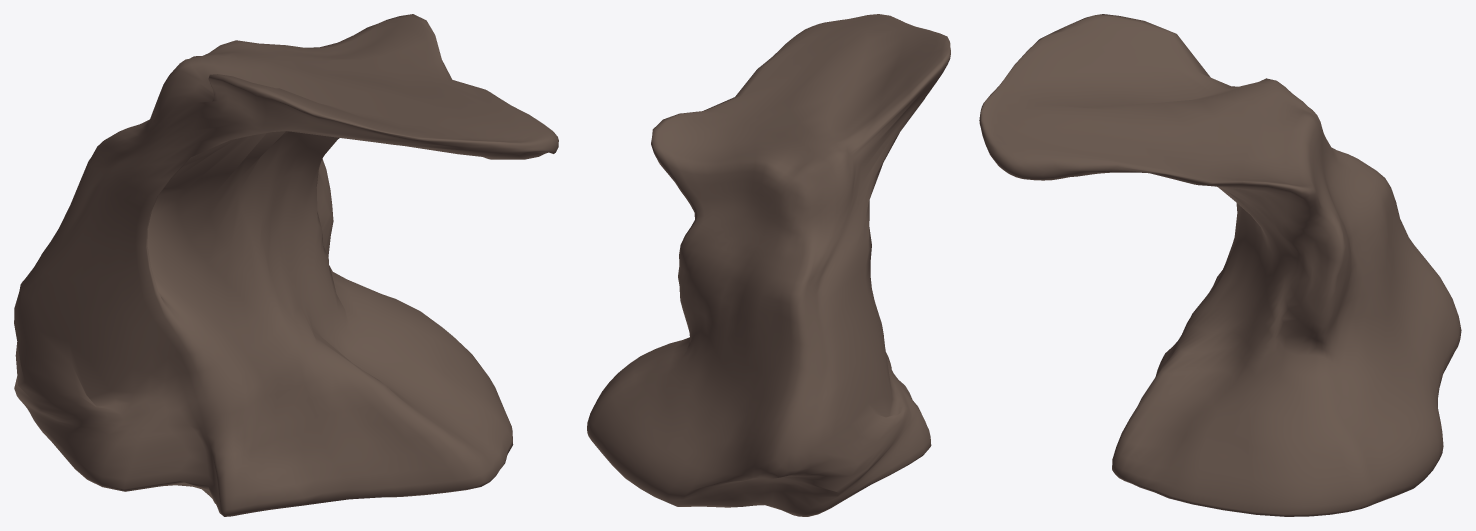
File: rock2.fbx
3 renders of one model, left to right at view 1: azimuth 30°, elevation 25°; view 2: azimuth 150°, elevation 25°; view 3: azimuth 270°, elevation 25°, orthographic. The views are drawn at different scales.
Visible parts, largest first — view 1: pCube6; view 2: pCube6; view 3: pCube6.
Part boxes in pixels (bbox=[...]): pCube6: bbox=[14, 14, 558, 516]; pCube6: bbox=[587, 14, 950, 516]; pCube6: bbox=[979, 14, 1461, 516].
Size of the model in its own units: 259 by 298 by 329.
